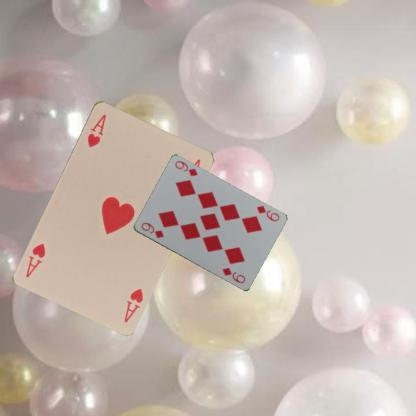9d: (138, 219, 165, 240), (254, 203, 280, 222)
Ah: (84, 111, 108, 148), (121, 286, 144, 324)
